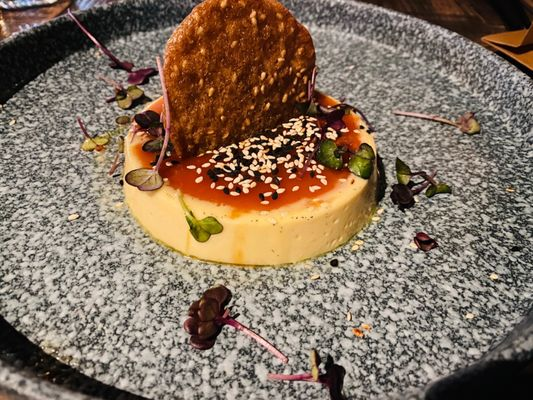sushi: (121, 0, 384, 268)
